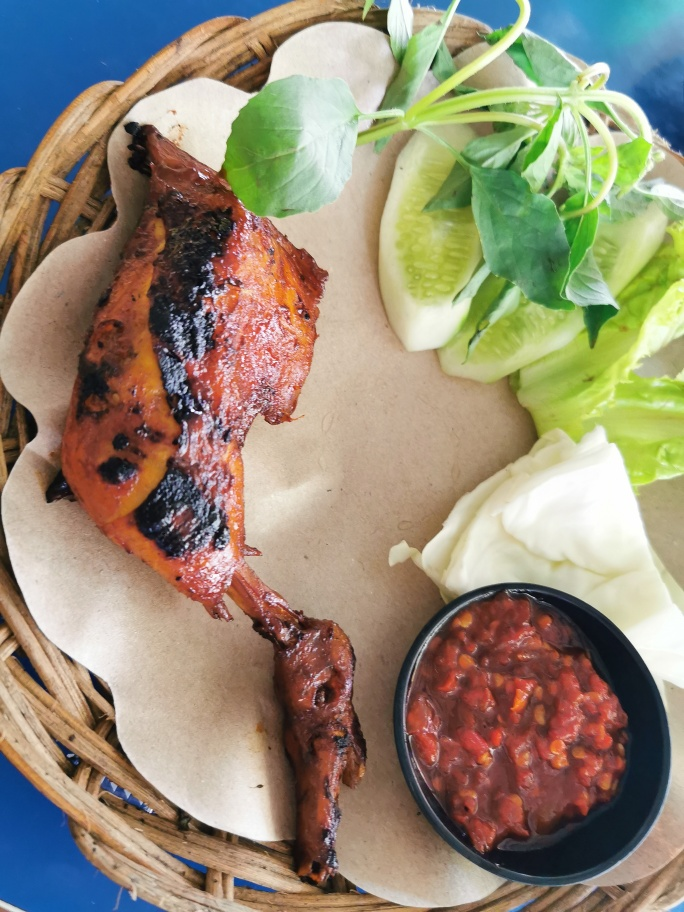ayam bakar: (41, 105, 385, 883)
